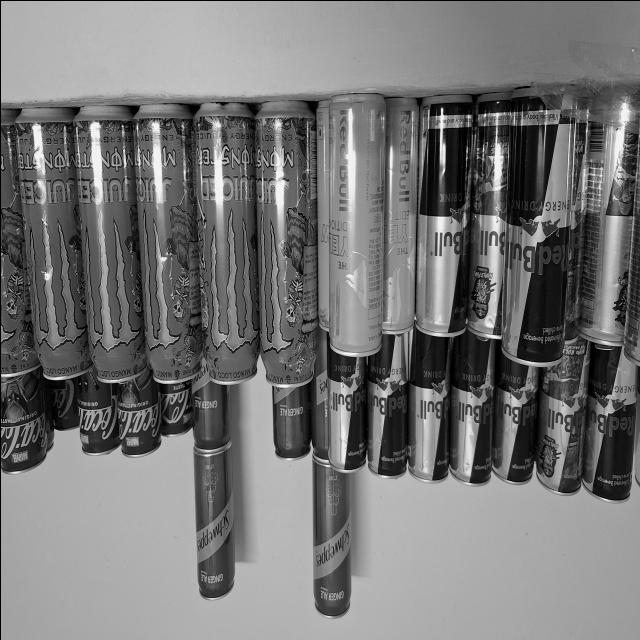Coca Cola: (158, 380, 188, 432), (51, 378, 78, 428)
Coca Cola - Marvel: (0, 376, 47, 468), (114, 377, 158, 452), (74, 378, 114, 449)
Monster Mango Loco: (22, 111, 88, 371), (141, 108, 205, 374), (82, 105, 144, 377), (200, 106, 256, 378), (254, 106, 308, 384), (0, 118, 28, 366)
Redbul: (510, 106, 560, 360), (418, 98, 468, 328), (590, 348, 634, 502), (449, 332, 492, 486), (408, 332, 448, 476), (366, 339, 408, 473), (492, 351, 528, 481), (328, 348, 364, 470), (626, 128, 640, 368)
Redbull DanceYourStyle: (585, 98, 625, 344), (472, 98, 501, 338), (540, 365, 584, 495)
Redbull Yellow Edition: (329, 101, 382, 343), (375, 99, 415, 322), (316, 108, 332, 322)
Schweppes: (192, 448, 234, 594), (311, 460, 348, 614), (272, 385, 310, 457), (190, 382, 228, 442), (312, 334, 328, 454)
